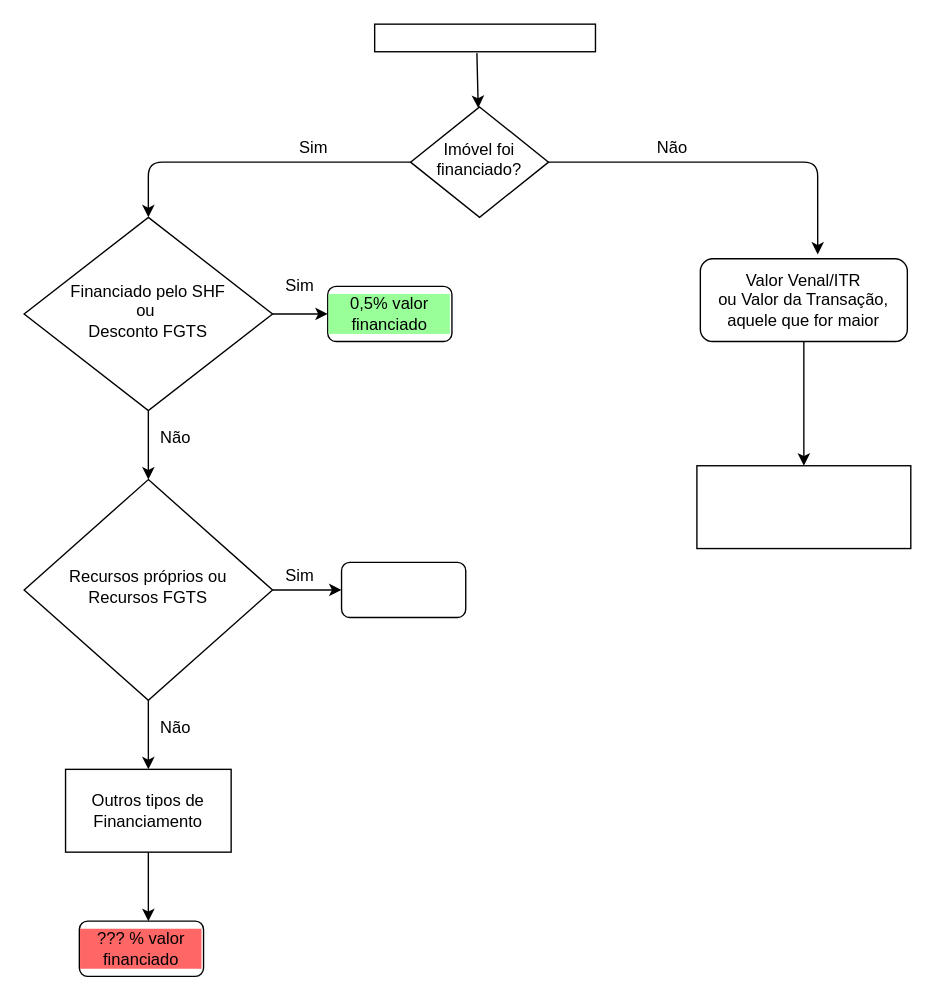
Image size: 936x1001. Some labels were removed from this diagram. The shapes that lost their labels are listed below. From the top down, each one's centre as x and y in pixels, then its label:
At [484,37]: "Valor da Guia".
At [803,506]: "Como calcular????".
At [403,589]: "3% valor financiado".
